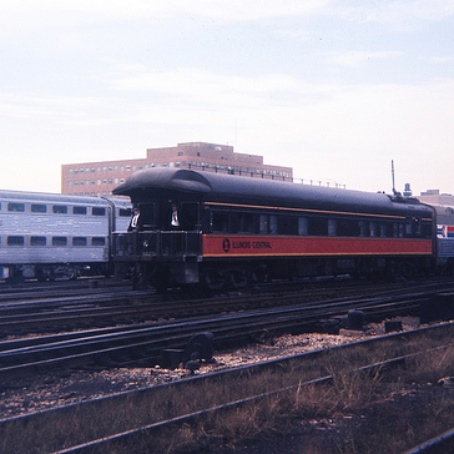building: (63, 138, 291, 197)
sky: (11, 1, 454, 173)
train: (130, 170, 449, 281), (1, 198, 106, 279)
train track: (1, 287, 454, 454)
